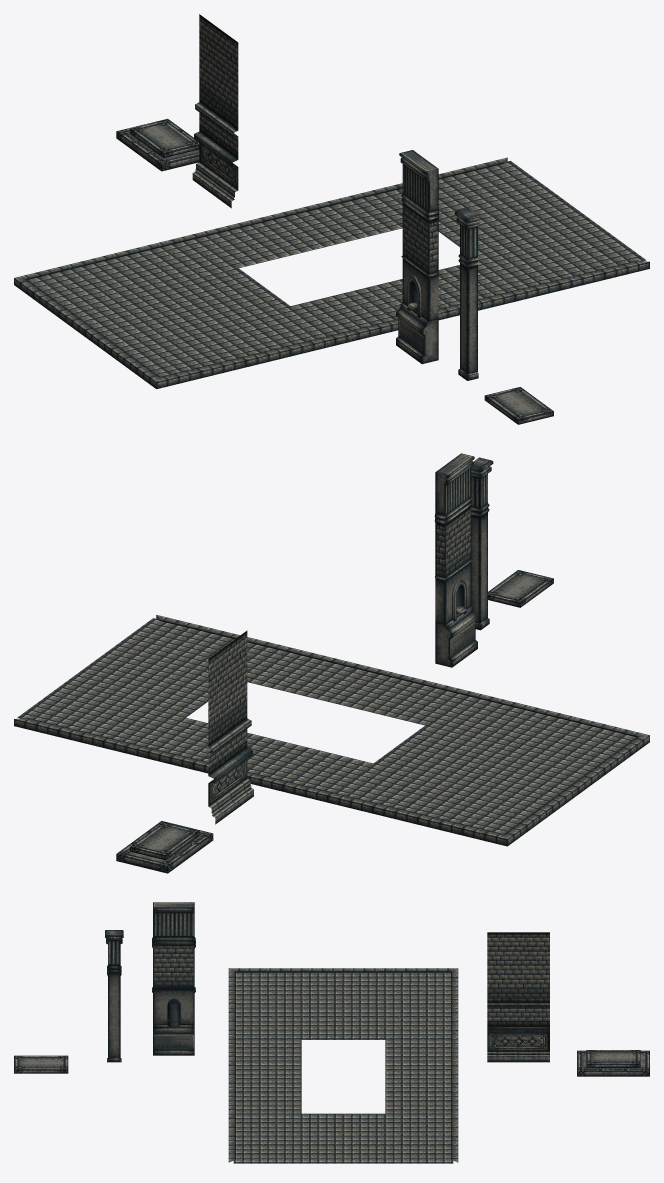
Rendered from EnvMdrMD_Daiseidou_A_Shrine_Floor.FBX.
3 views of the same model, one above another, from view 1: azimuth 30°, elevation 25°; view 2: azimuth 150°, elevation 25°; view 3: azimuth 270°, elevation 25° (orthographic). The views are drawn at different scales.
Parts seen in each view (by area): view 1: EnvMdrMD_Daiseidou_A_Shrine_Floor, EnvMdrMD_Daiseidou_A_Shrine_Pillar_A, EnvMdrMD_Daiseidou_A_Shrine_Wall_A, EnvMdrMD_Daiseidou_A_Shrine_Pillar_B, EnvMdrMD_Daiseidou_A_Shrine_Pedestal_A, EnvMdrMD_Daiseidou_A_Shrine_Pedestal_B; view 2: EnvMdrMD_Daiseidou_A_Shrine_Floor, EnvMdrMD_Daiseidou_A_Shrine_Pillar_A, EnvMdrMD_Daiseidou_A_Shrine_Wall_A, EnvMdrMD_Daiseidou_A_Shrine_Pedestal_A, EnvMdrMD_Daiseidou_A_Shrine_Pillar_B, EnvMdrMD_Daiseidou_A_Shrine_Pedestal_B; view 3: EnvMdrMD_Daiseidou_A_Shrine_Floor, EnvMdrMD_Daiseidou_A_Shrine_Wall_A, EnvMdrMD_Daiseidou_A_Shrine_Pillar_A, EnvMdrMD_Daiseidou_A_Shrine_Pedestal_A, EnvMdrMD_Daiseidou_A_Shrine_Pillar_B, EnvMdrMD_Daiseidou_A_Shrine_Pedestal_B.
Boxes of the visible parts, box(x1,y1,x2,y2) form: EnvMdrMD_Daiseidou_A_Shrine_Floor: box(14, 157, 649, 389); EnvMdrMD_Daiseidou_A_Shrine_Pillar_A: box(396, 150, 439, 364); EnvMdrMD_Daiseidou_A_Shrine_Wall_A: box(192, 14, 238, 208); EnvMdrMD_Daiseidou_A_Shrine_Pillar_B: box(454, 208, 479, 380); EnvMdrMD_Daiseidou_A_Shrine_Pedestal_A: box(116, 118, 199, 171); EnvMdrMD_Daiseidou_A_Shrine_Pedestal_B: box(484, 387, 553, 424); EnvMdrMD_Daiseidou_A_Shrine_Floor: box(14, 615, 649, 846); EnvMdrMD_Daiseidou_A_Shrine_Pillar_A: box(434, 453, 477, 667); EnvMdrMD_Daiseidou_A_Shrine_Wall_A: box(208, 630, 253, 824); EnvMdrMD_Daiseidou_A_Shrine_Pedestal_A: box(116, 821, 213, 873); EnvMdrMD_Daiseidou_A_Shrine_Pillar_B: box(471, 457, 493, 630); EnvMdrMD_Daiseidou_A_Shrine_Pedestal_B: box(488, 570, 553, 607); EnvMdrMD_Daiseidou_A_Shrine_Floor: box(228, 968, 458, 1163); EnvMdrMD_Daiseidou_A_Shrine_Wall_A: box(487, 932, 549, 1062); EnvMdrMD_Daiseidou_A_Shrine_Pillar_A: box(152, 902, 195, 1055); EnvMdrMD_Daiseidou_A_Shrine_Pedestal_A: box(577, 1050, 649, 1076); EnvMdrMD_Daiseidou_A_Shrine_Pillar_B: box(105, 930, 123, 1062); EnvMdrMD_Daiseidou_A_Shrine_Pedestal_B: box(14, 1055, 68, 1073).
Size of the model in its own units: 2200 by 840 by 3043.
Materials: 1 (1 with a texture image).
